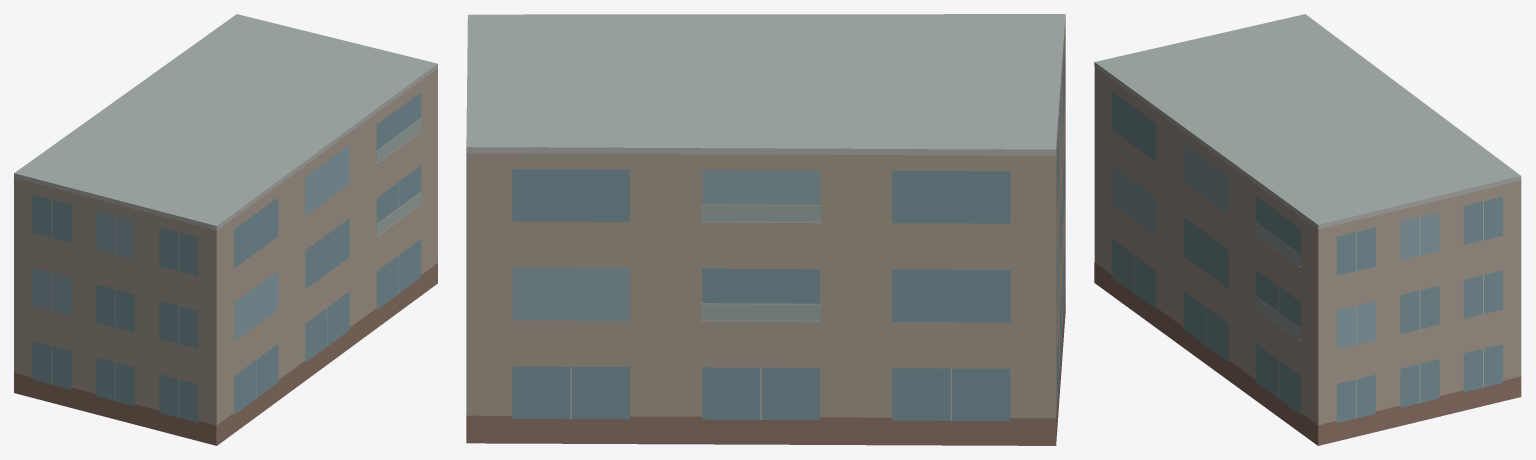
File: survey-upis-32843833.glb
3 views of the same model, side by side, from view 1: azimuth 30°, elevation 25°; view 2: azimuth 150°, elevation 25°; view 3: azimuth 270°, elevation 25° (orthographic). The views are drawn at different scales.
Visible parts, largest first — view 1: survey-upis-32843833.tmp; view 2: survey-upis-32843833.tmp; view 3: survey-upis-32843833.tmp.
Part boxes in pixels (left/top/right/bottom): survey-upis-32843833.tmp: left=14, top=14, right=437, bottom=445; survey-upis-32843833.tmp: left=466, top=14, right=1065, bottom=445; survey-upis-32843833.tmp: left=1094, top=14, right=1521, bottom=445.
Bounding box in the file's own units: 24.17 × 11.8 × 20.67.
